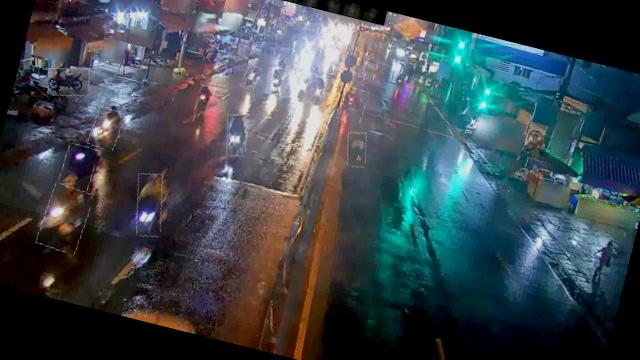Bike: (36, 183, 94, 256), (127, 171, 171, 240), (57, 142, 98, 194), (44, 62, 92, 102), (88, 106, 124, 152), (220, 112, 252, 158), (337, 86, 369, 126), (342, 131, 371, 170), (192, 84, 216, 125), (264, 67, 285, 97), (240, 64, 262, 92)
Car: (296, 72, 327, 106)
